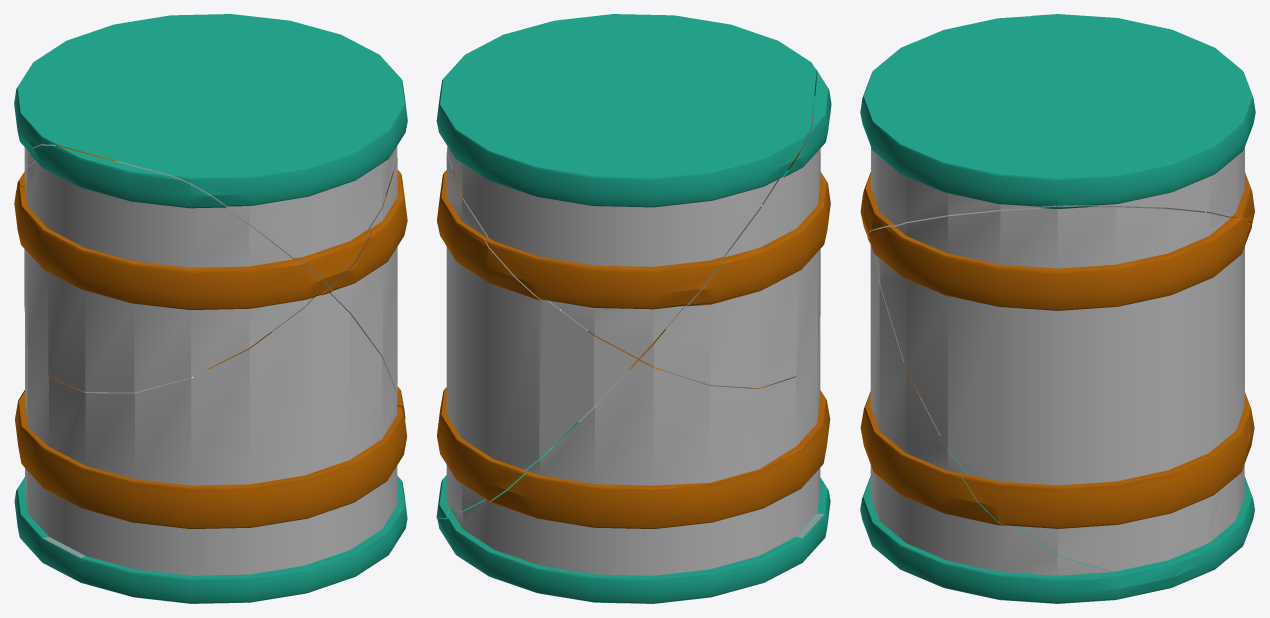
File: Barrel2_Broken.fbx
3 views of the same model, side by side, from view 1: azimuth 30°, elevation 25°; view 2: azimuth 150°, elevation 25°; view 3: azimuth 270°, elevation 25° (orthographic).
Parts seen in each view (by area): view 1: polySurface1, polySurface2, polySurface3, polySurface5; view 2: polySurface2, polySurface1, polySurface5, polySurface3; view 3: polySurface5, polySurface2, polySurface1, polySurface3.
Part boxes in pixels (x1,y1,x2,y2): polySurface1: (14,288,407,603); polySurface2: (14,14,407,286); polySurface3: (14,145,328,392); polySurface5: (111,157,407,418); polySurface2: (436,14,816,358); polySurface1: (437,206,830,603); polySurface5: (436,148,637,518); polySurface3: (640,69,831,388); polySurface5: (868,207,1251,587); polySurface2: (860,14,1255,233); polySurface1: (860,236,1254,603); polySurface3: (860,16,1205,235).
Bounding box in the file's own units: 170 × 202 × 169.
